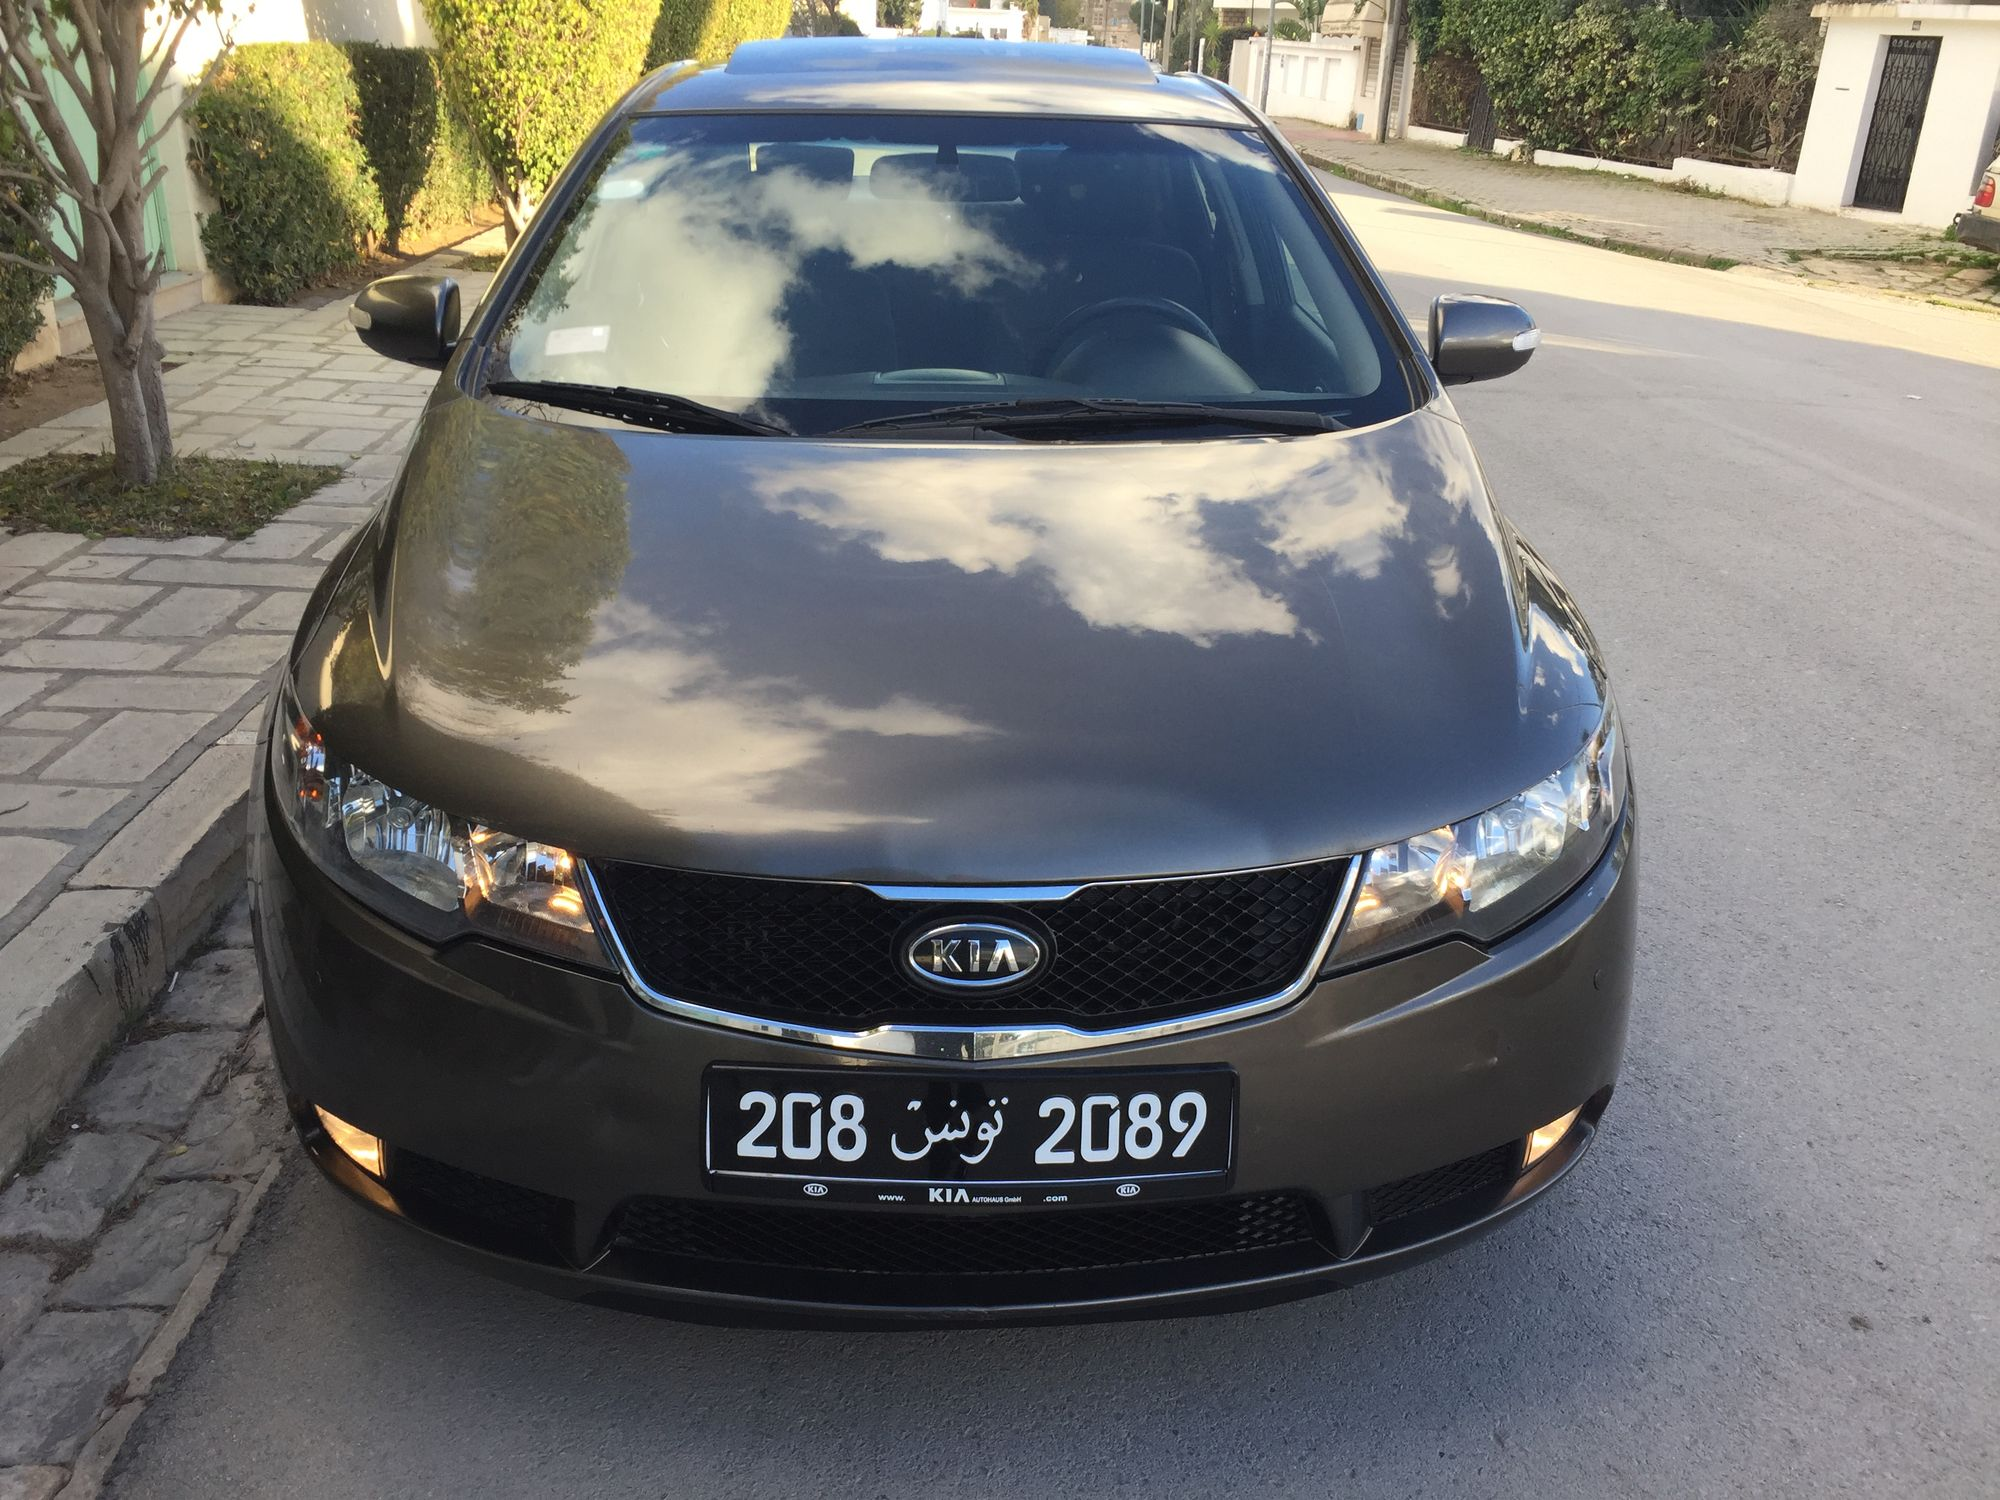LP: (708, 1067, 1240, 1180)
